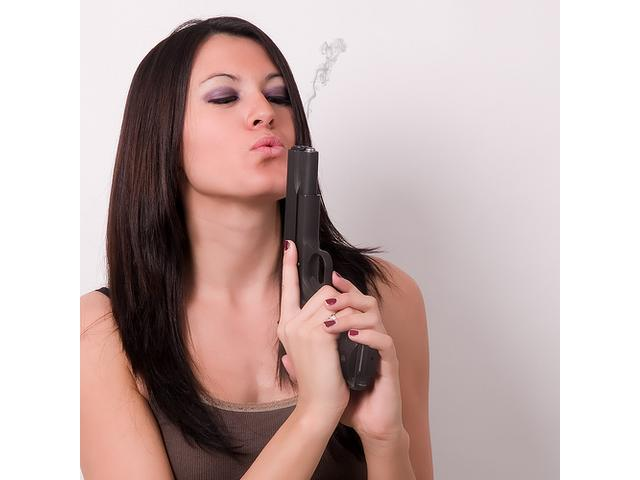pistol: (282, 147, 376, 398)
